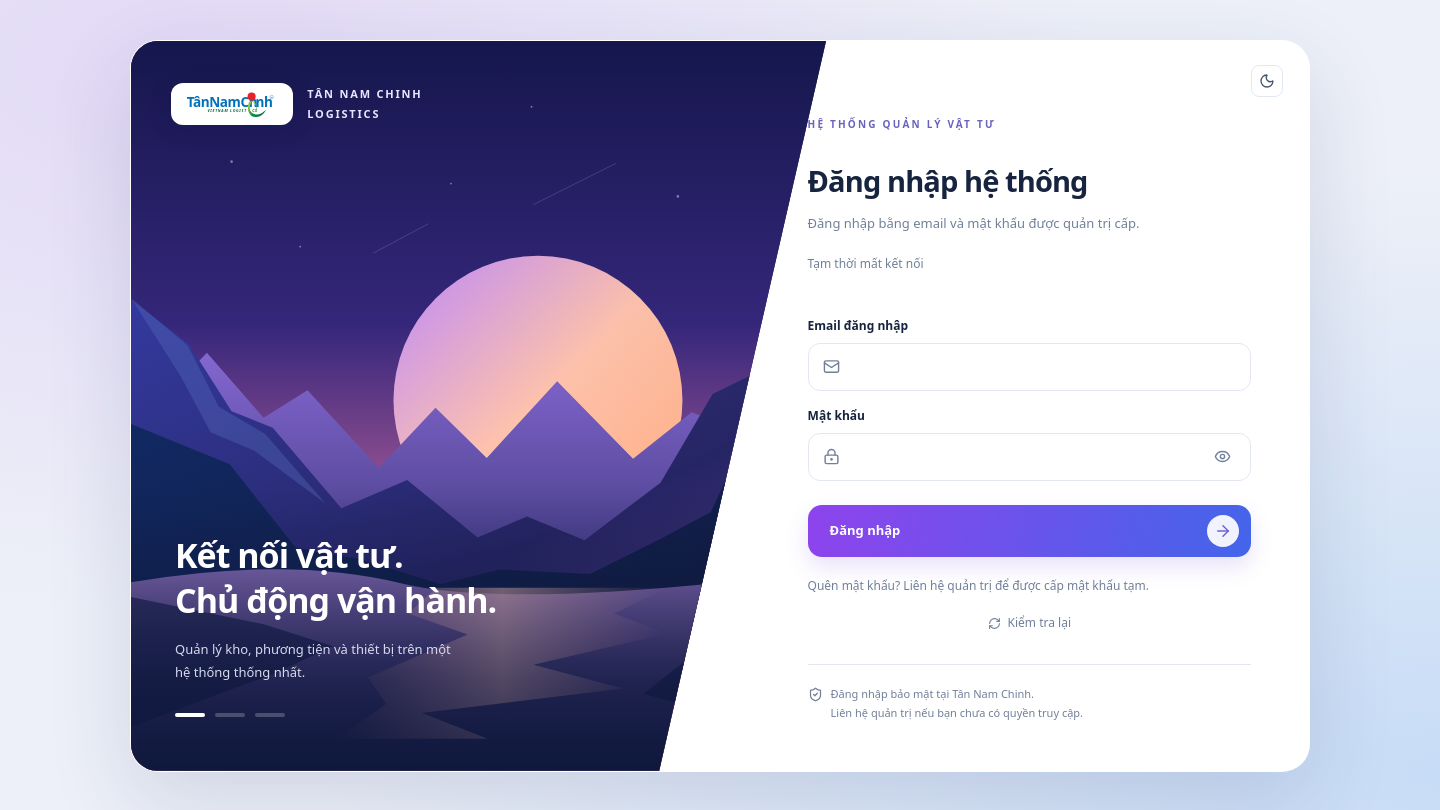
Test: retry checks session again before showing actual API data
This screenshot has width=1440, height=810.
Expected: the message "Tạm thời mất kết nối" is shown, [808,255,924,272]
Click the button "Kiểm tra lại" at x=1029, y=623, box [808,614,1251,632]
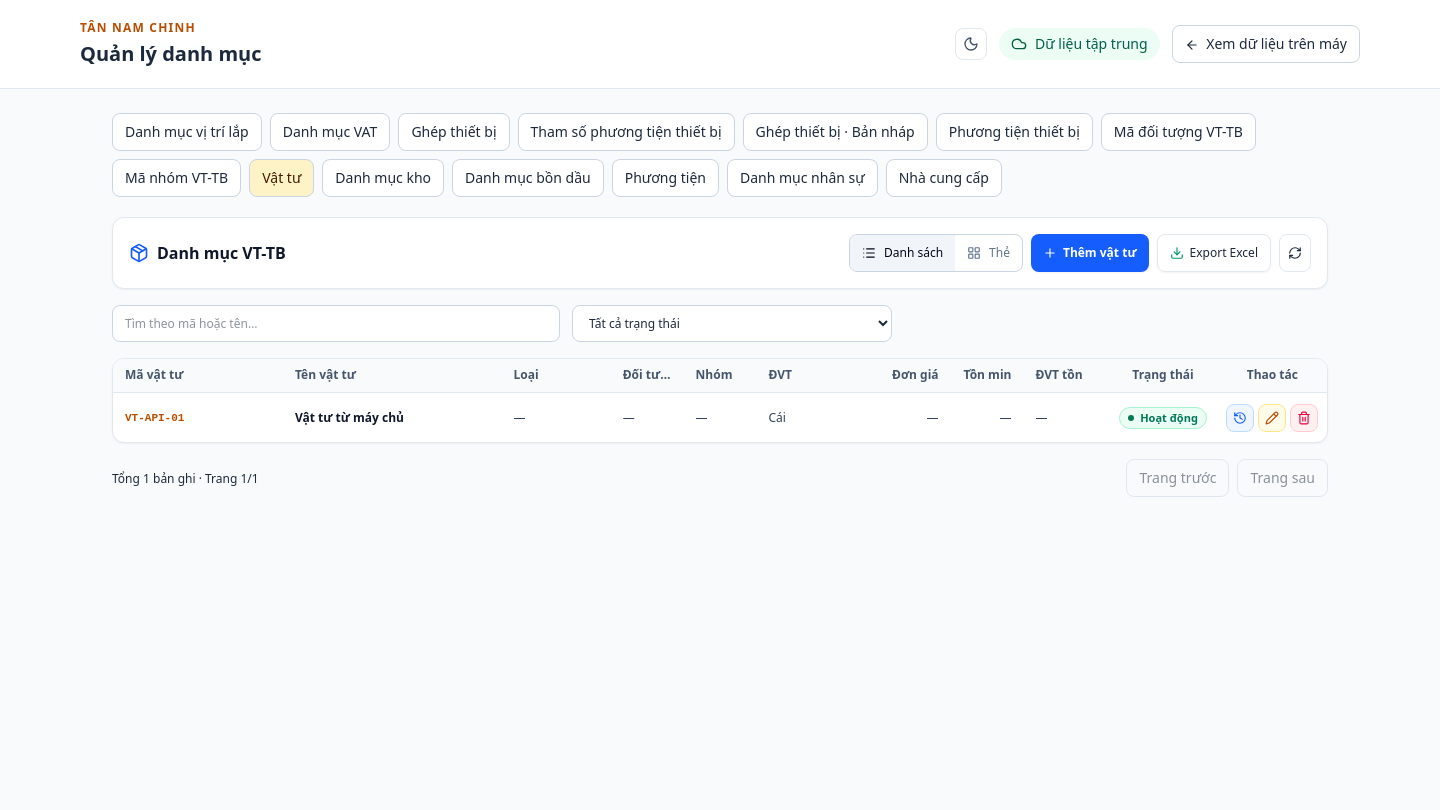
Result: the text "Vật tư từ máy chủ" is shown at [283,392,502,442]
